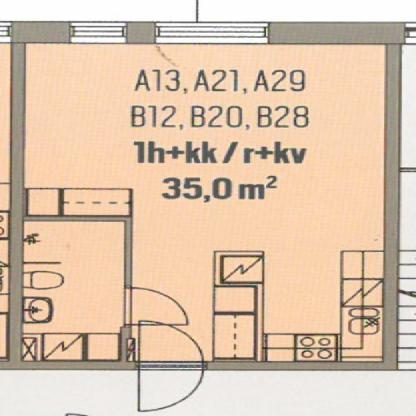door: (134, 319, 207, 414), (121, 286, 197, 330)
window: (155, 23, 269, 42), (72, 22, 127, 42)
zone: (30, 42, 380, 360), (26, 219, 118, 360)
